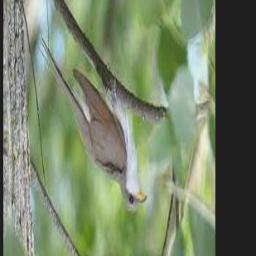Cuckoo: (39, 38, 147, 212)
